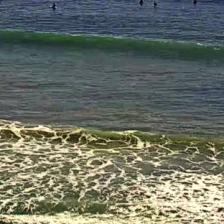surfer: (137, 0, 145, 7), (50, 3, 57, 9), (152, 1, 158, 7), (192, 0, 197, 5)
